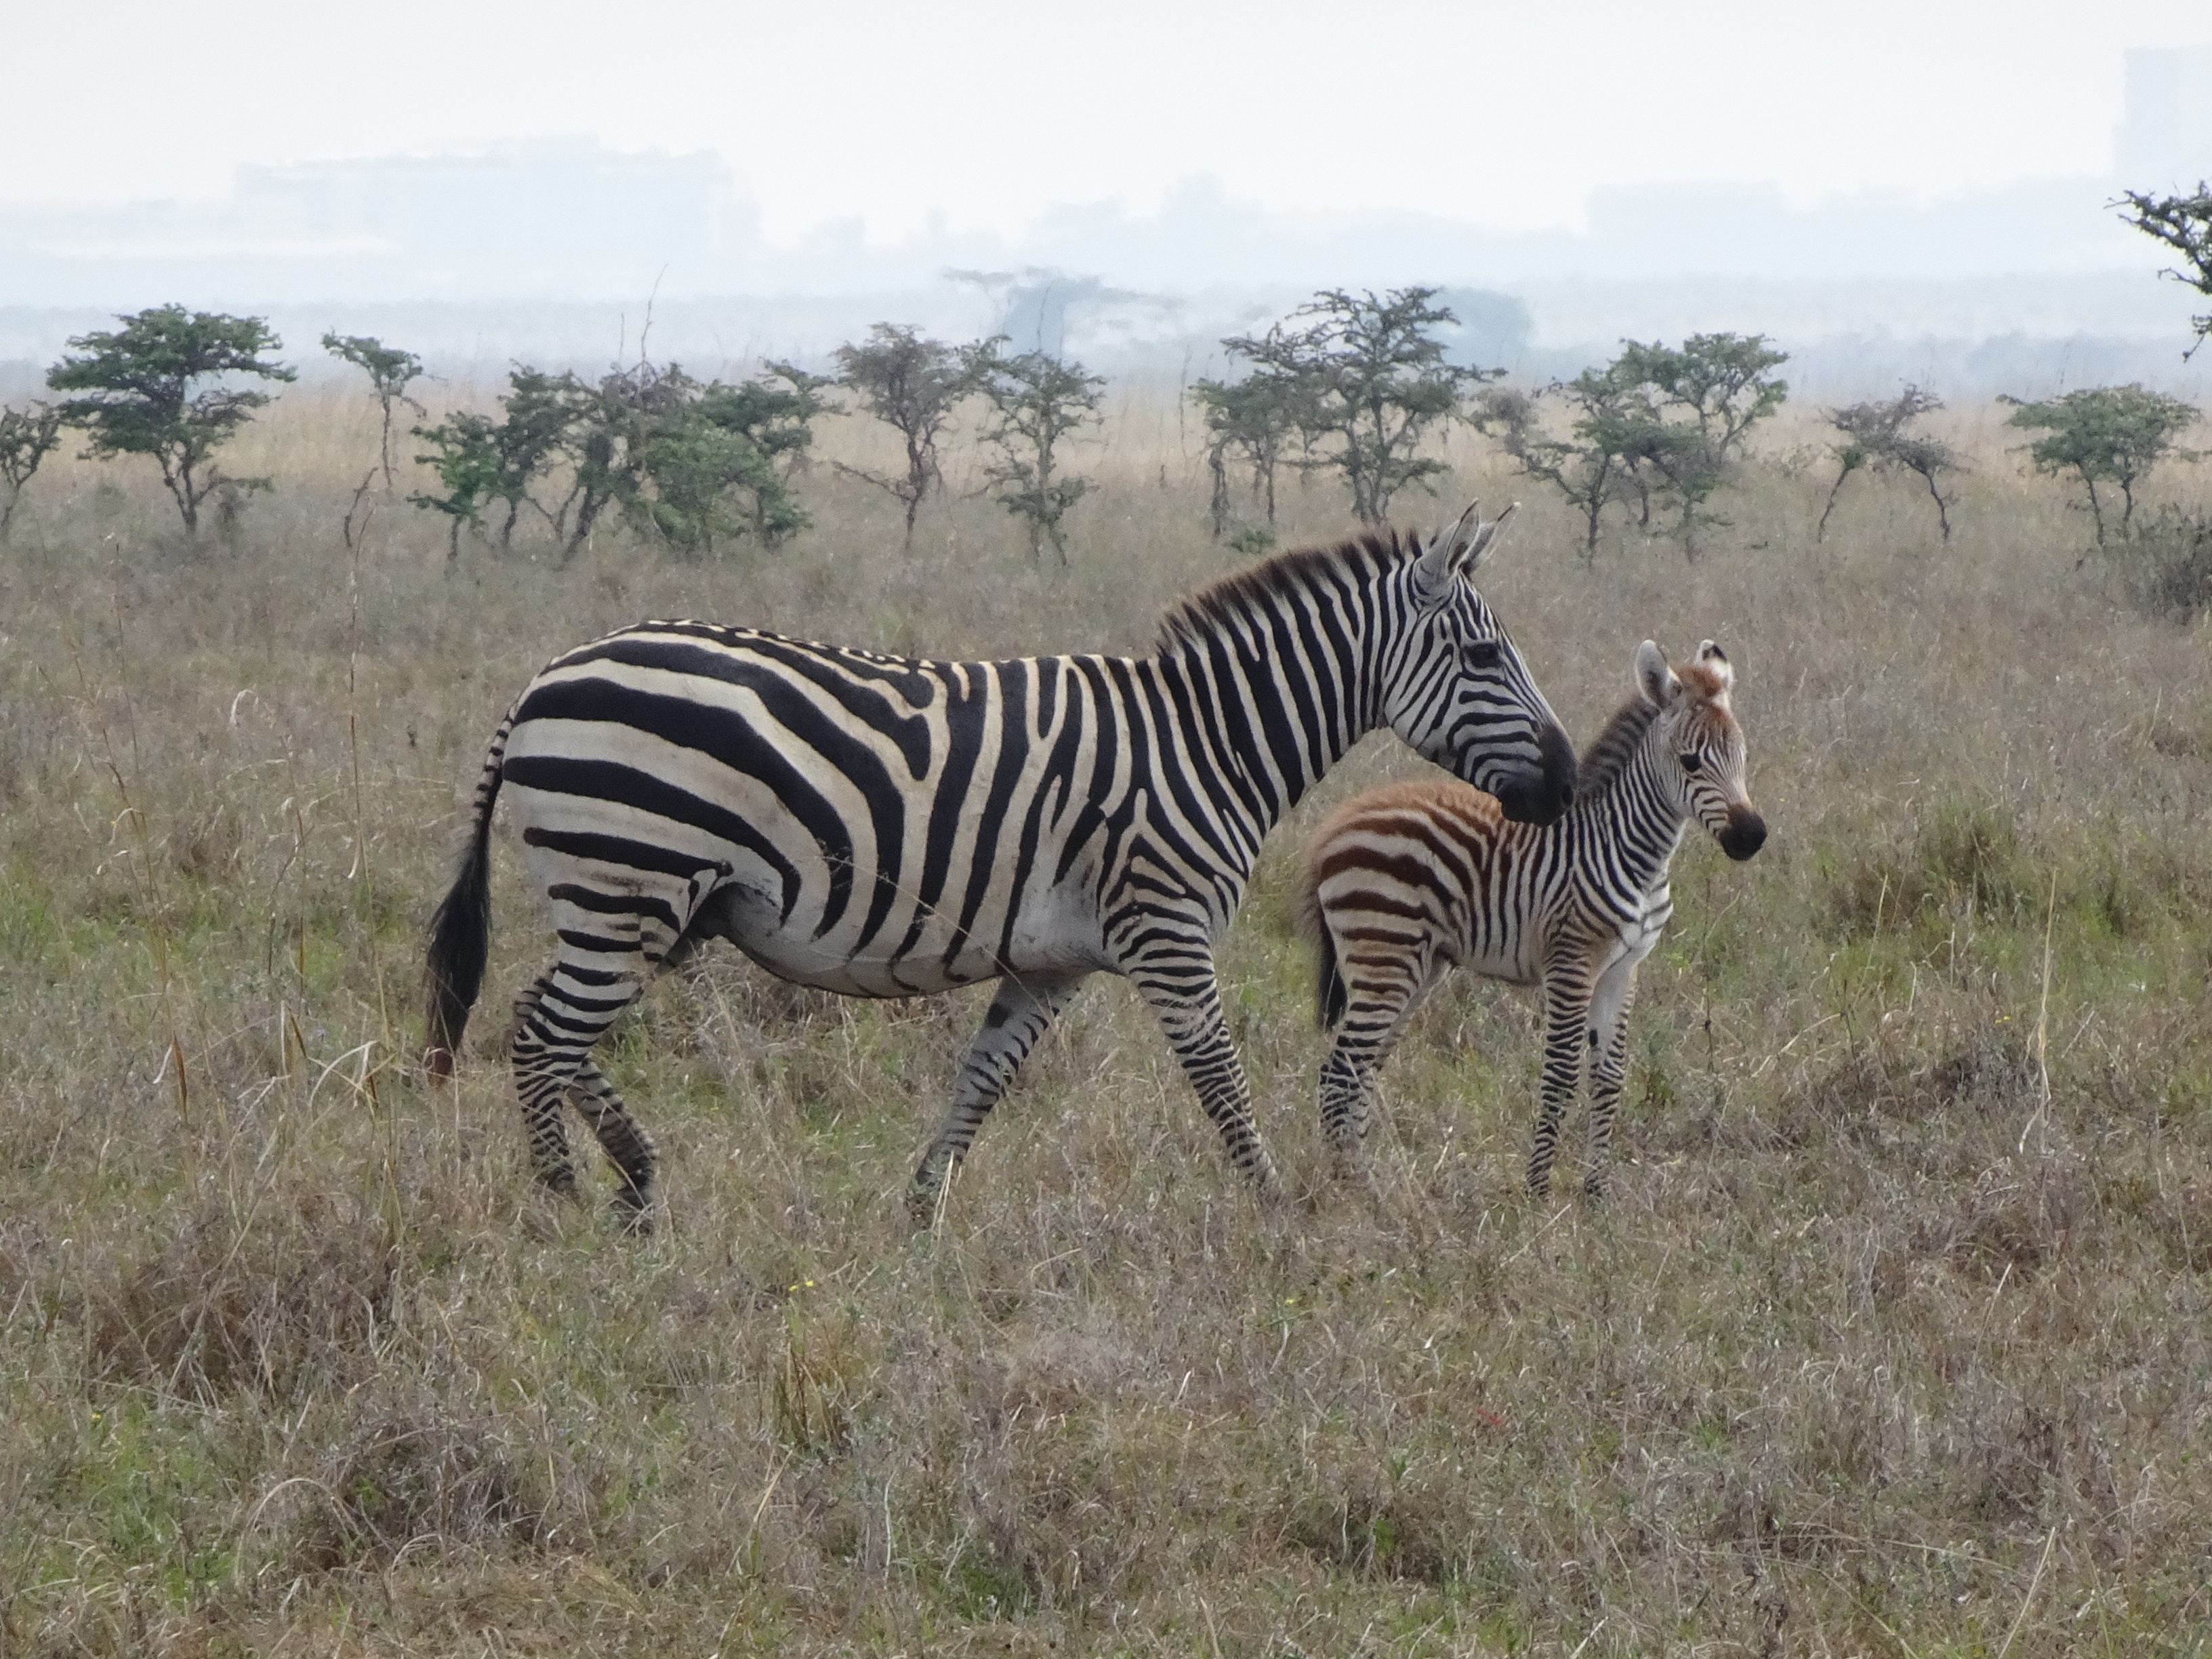zebra: (1010, 873, 2141, 1628), (1538, 917, 2017, 1486)
